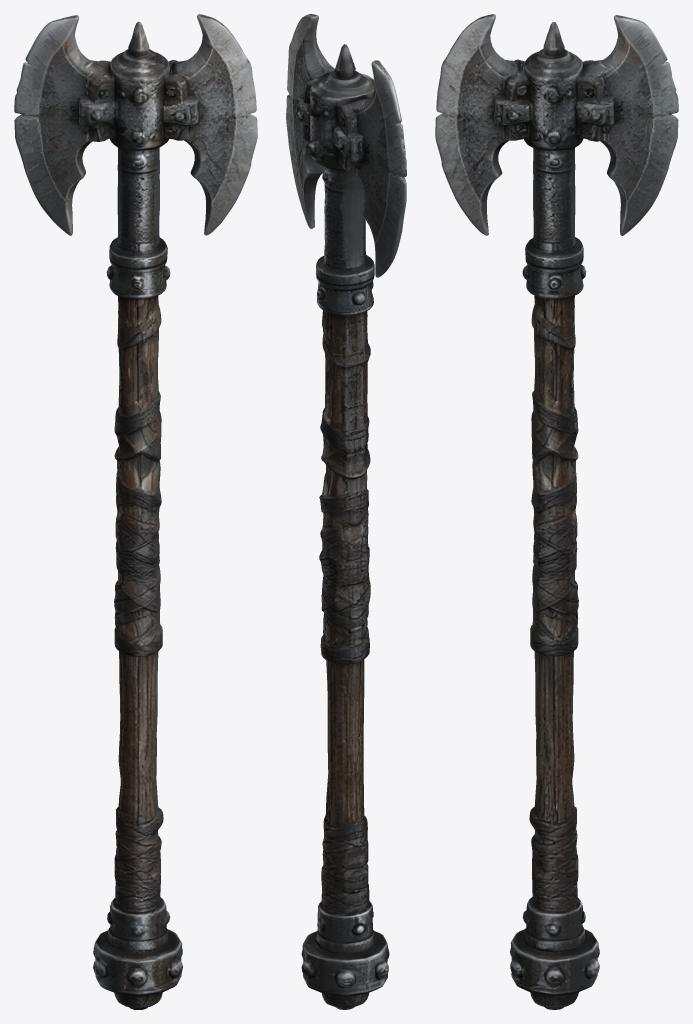
Rendered from iron_greataxe.glb.
3 renders of one model, left to right at view 1: azimuth 90°, elevation 25°; view 2: azimuth 210°, elevation 25°; view 3: azimuth 270°, elevation 25°, orthographic. The views are drawn at different scales.
Parts seen in each view (by area): view 1: iron_greataxe; view 2: iron_greataxe; view 3: iron_greataxe.
Boxes of the visible parts, bbox=[...] form: iron_greataxe: bbox=[14, 14, 257, 1009]; iron_greataxe: bbox=[286, 14, 406, 1009]; iron_greataxe: bbox=[435, 14, 678, 1009].
Size of the model in its own units: 0.1194 by 1.33 by 0.2973.
1 material, 1 textured.
